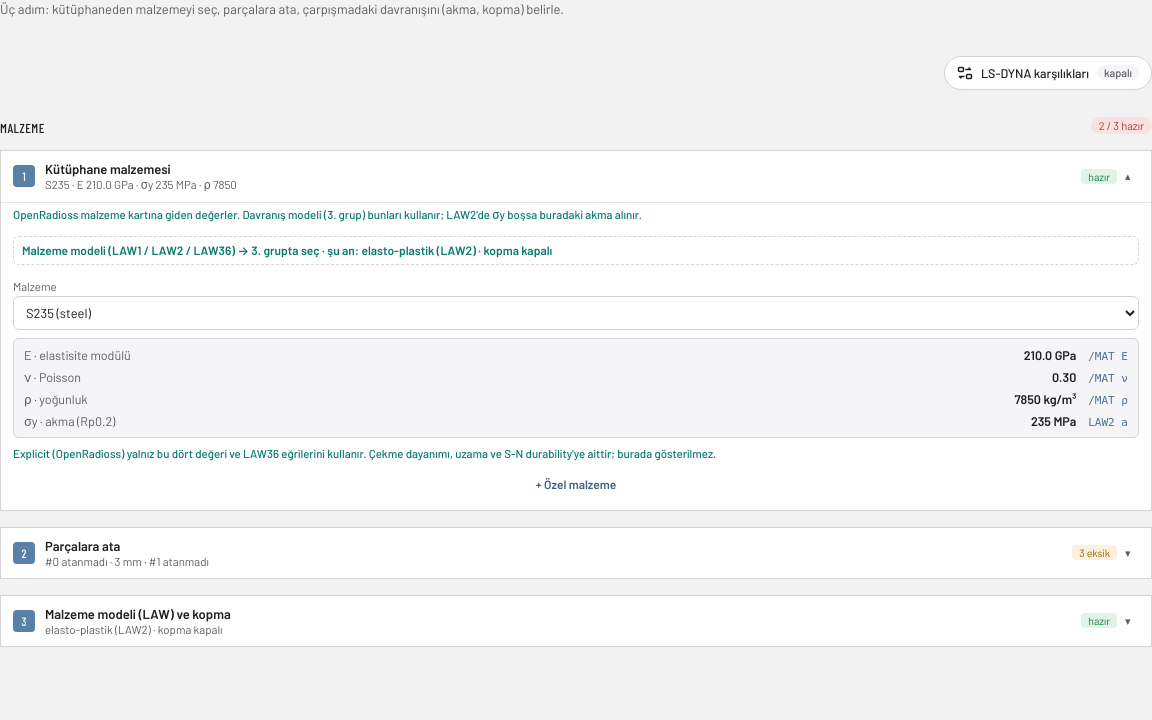
CrashMaterialStep (3 · Material, BC gibi akordeon) › davranış grubu malzeme modeli kartını içerir (varsayılan LAW2)
What coordinates should you click on to do the following:
click the button "Malzeme modeli (LAW) ve kopma"
I would click on:
 (138, 614)
Its box is [1,596,1151,646].
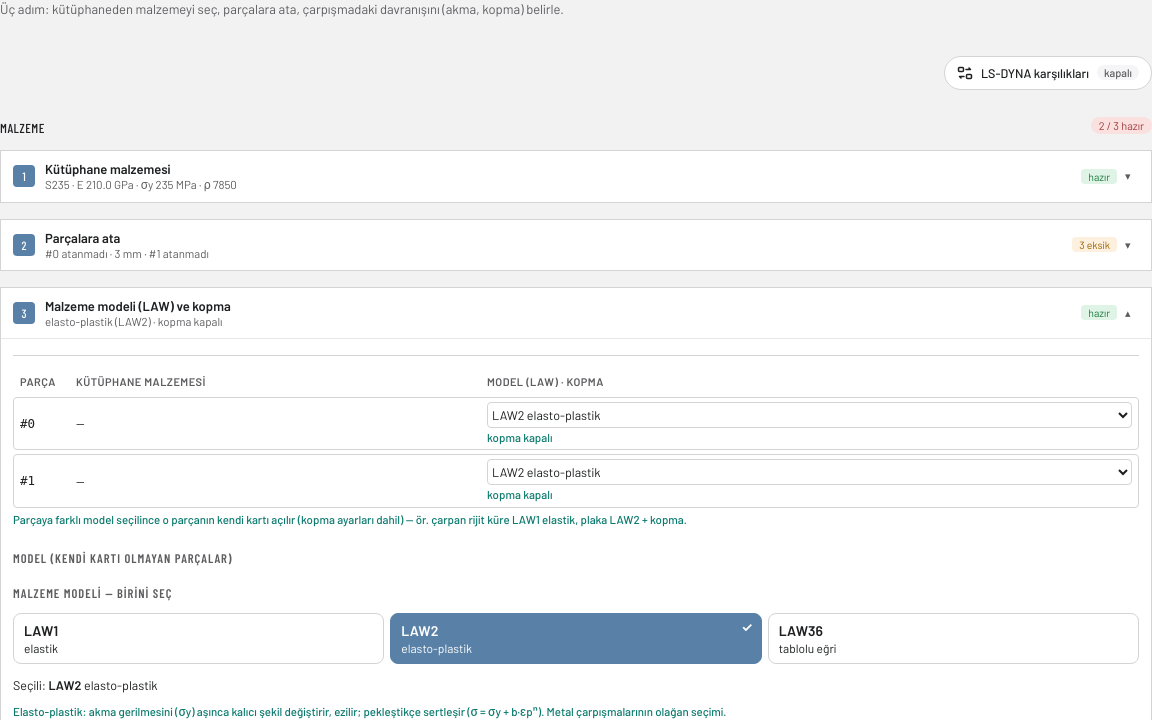
Expected: the button with aria-label "LAW2 plastik" is shown, [390,612,762,664]
